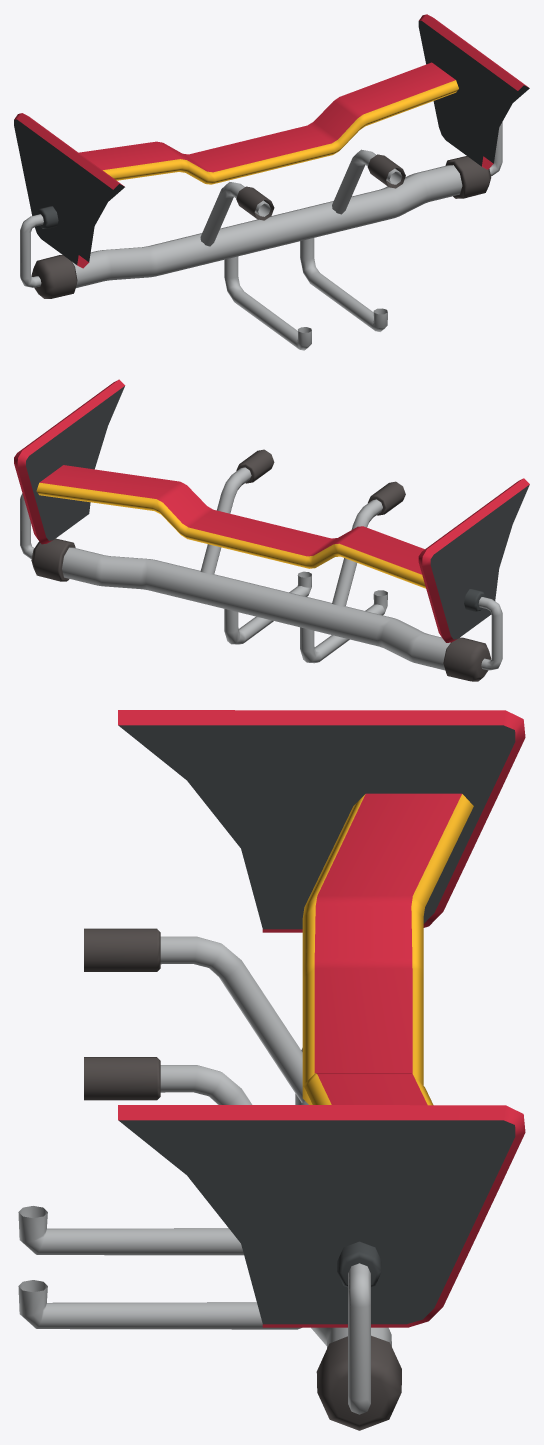
File: Car_13_RearBumper_Cool.fbx
The picture shows the model from 3 angles, top to bottom: view 1: azimuth 30°, elevation 25°; view 2: azimuth 150°, elevation 25°; view 3: azimuth 270°, elevation 25°; orthographic projection. The views are drawn at different scales.
Visible parts, largest first — view 1: Car_13_RearBumper_Cool; view 2: Car_13_RearBumper_Cool; view 3: Car_13_RearBumper_Cool.
Part boxes in pixels (x1,y1,x2,y2): Car_13_RearBumper_Cool: (14, 14, 529, 350); Car_13_RearBumper_Cool: (14, 379, 529, 681); Car_13_RearBumper_Cool: (18, 710, 525, 1430).
Bounding box in the file's own units: 234 × 107 × 89.27.
